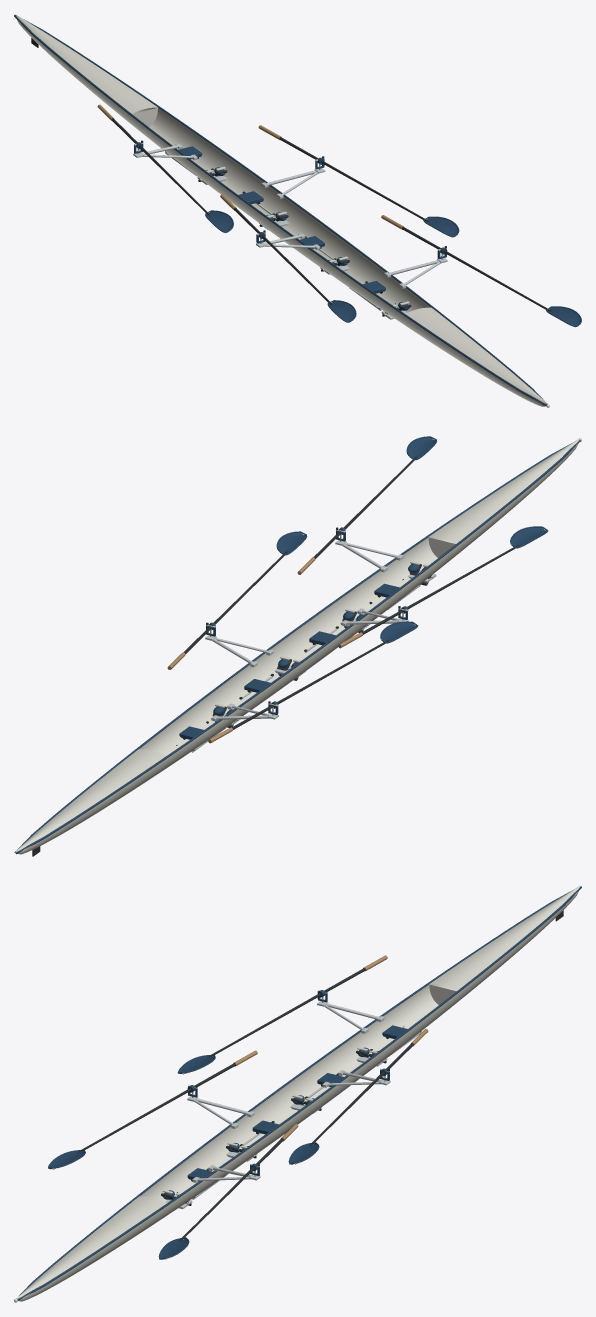
File: rowing-boathouse-and-regatta-course-coxless-four-shell-cf1a2cdf__32130.glb
The picture shows the model from 3 angles, top to bottom: view 1: azimuth 30°, elevation 25°; view 2: azimuth 150°, elevation 25°; view 3: azimuth 330°, elevation 25°; orthographic projection. The views are drawn at different scales.
Parts seen in each view (by area): view 1: coxless-four-shell; view 2: coxless-four-shell; view 3: coxless-four-shell.
Boxes of the visible parts, <box> form: coxless-four-shell: <box>14,14,581,407</box>; coxless-four-shell: <box>14,436,581,856</box>; coxless-four-shell: <box>14,885,581,1302</box>.
Bounding box in the file's own units: 2.35 × 0.5839 × 12.02.
